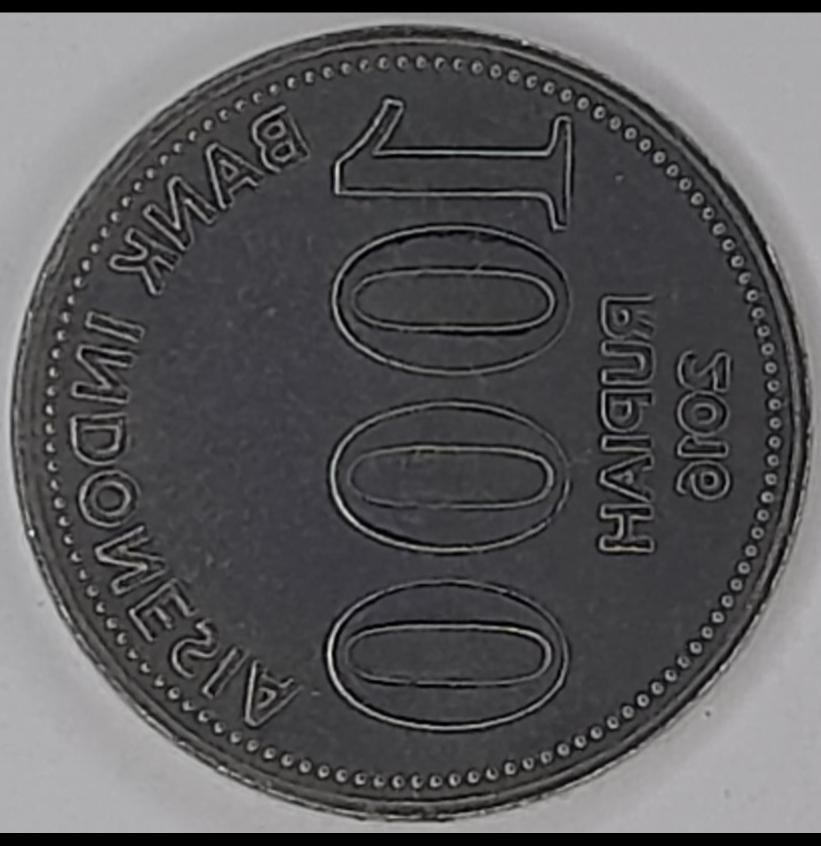coin_1000_e2016: (14, 17, 810, 846)
